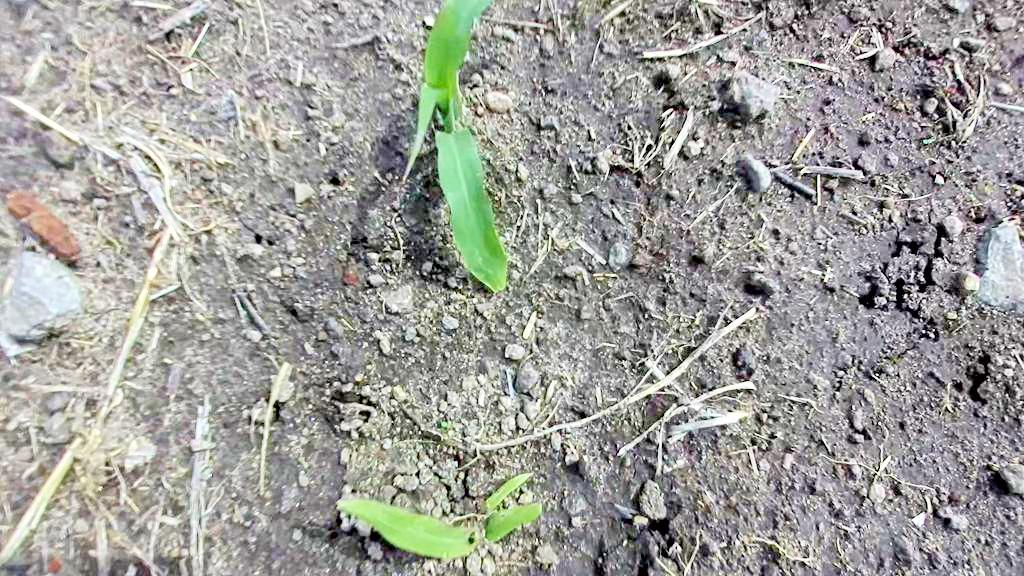BroWeed: (445, 427, 456, 439), (922, 137, 935, 146), (439, 420, 449, 430)
Maize: (336, 471, 548, 573)
